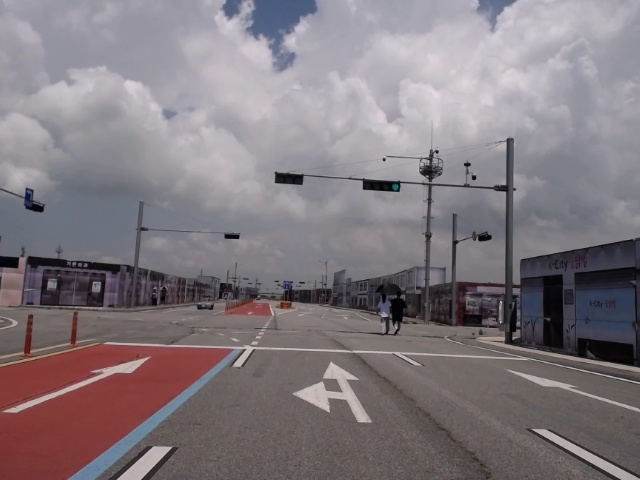straight_green_4: (364, 178, 402, 191)
